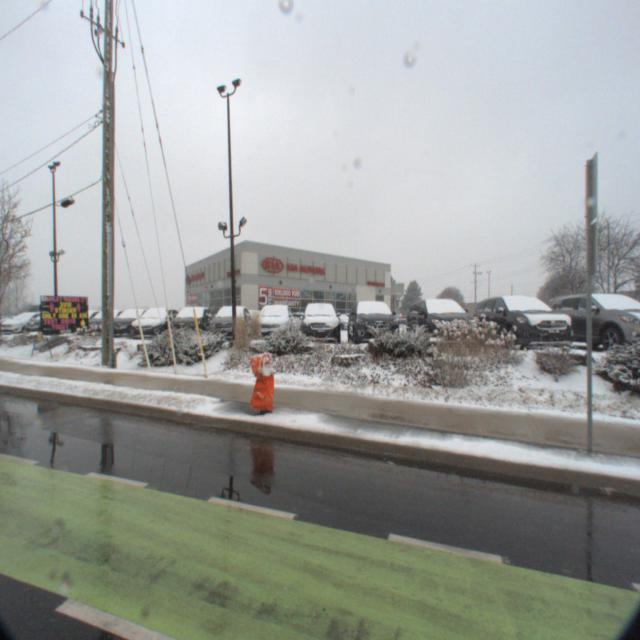Car: (465, 287, 581, 353), (402, 291, 484, 350), (344, 295, 404, 349), (122, 305, 184, 344), (160, 303, 218, 344), (296, 298, 341, 346), (99, 307, 160, 342), (202, 302, 254, 342), (248, 302, 295, 344), (282, 310, 322, 332), (319, 311, 356, 331)
